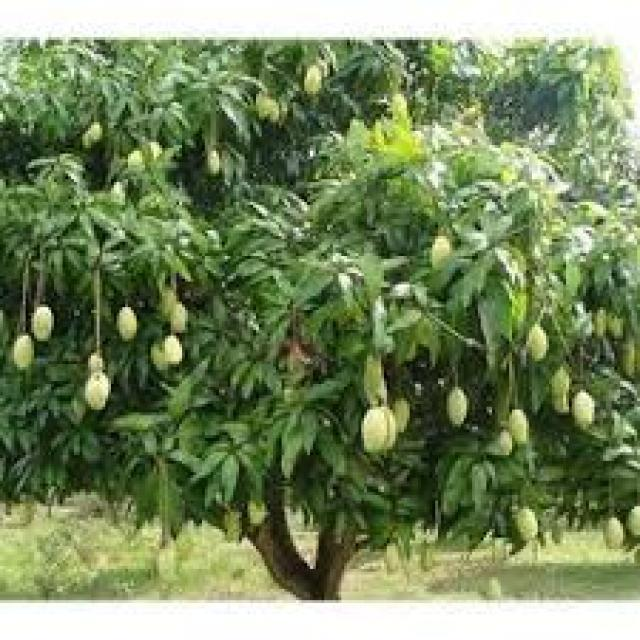tree: (72, 56, 484, 607)
